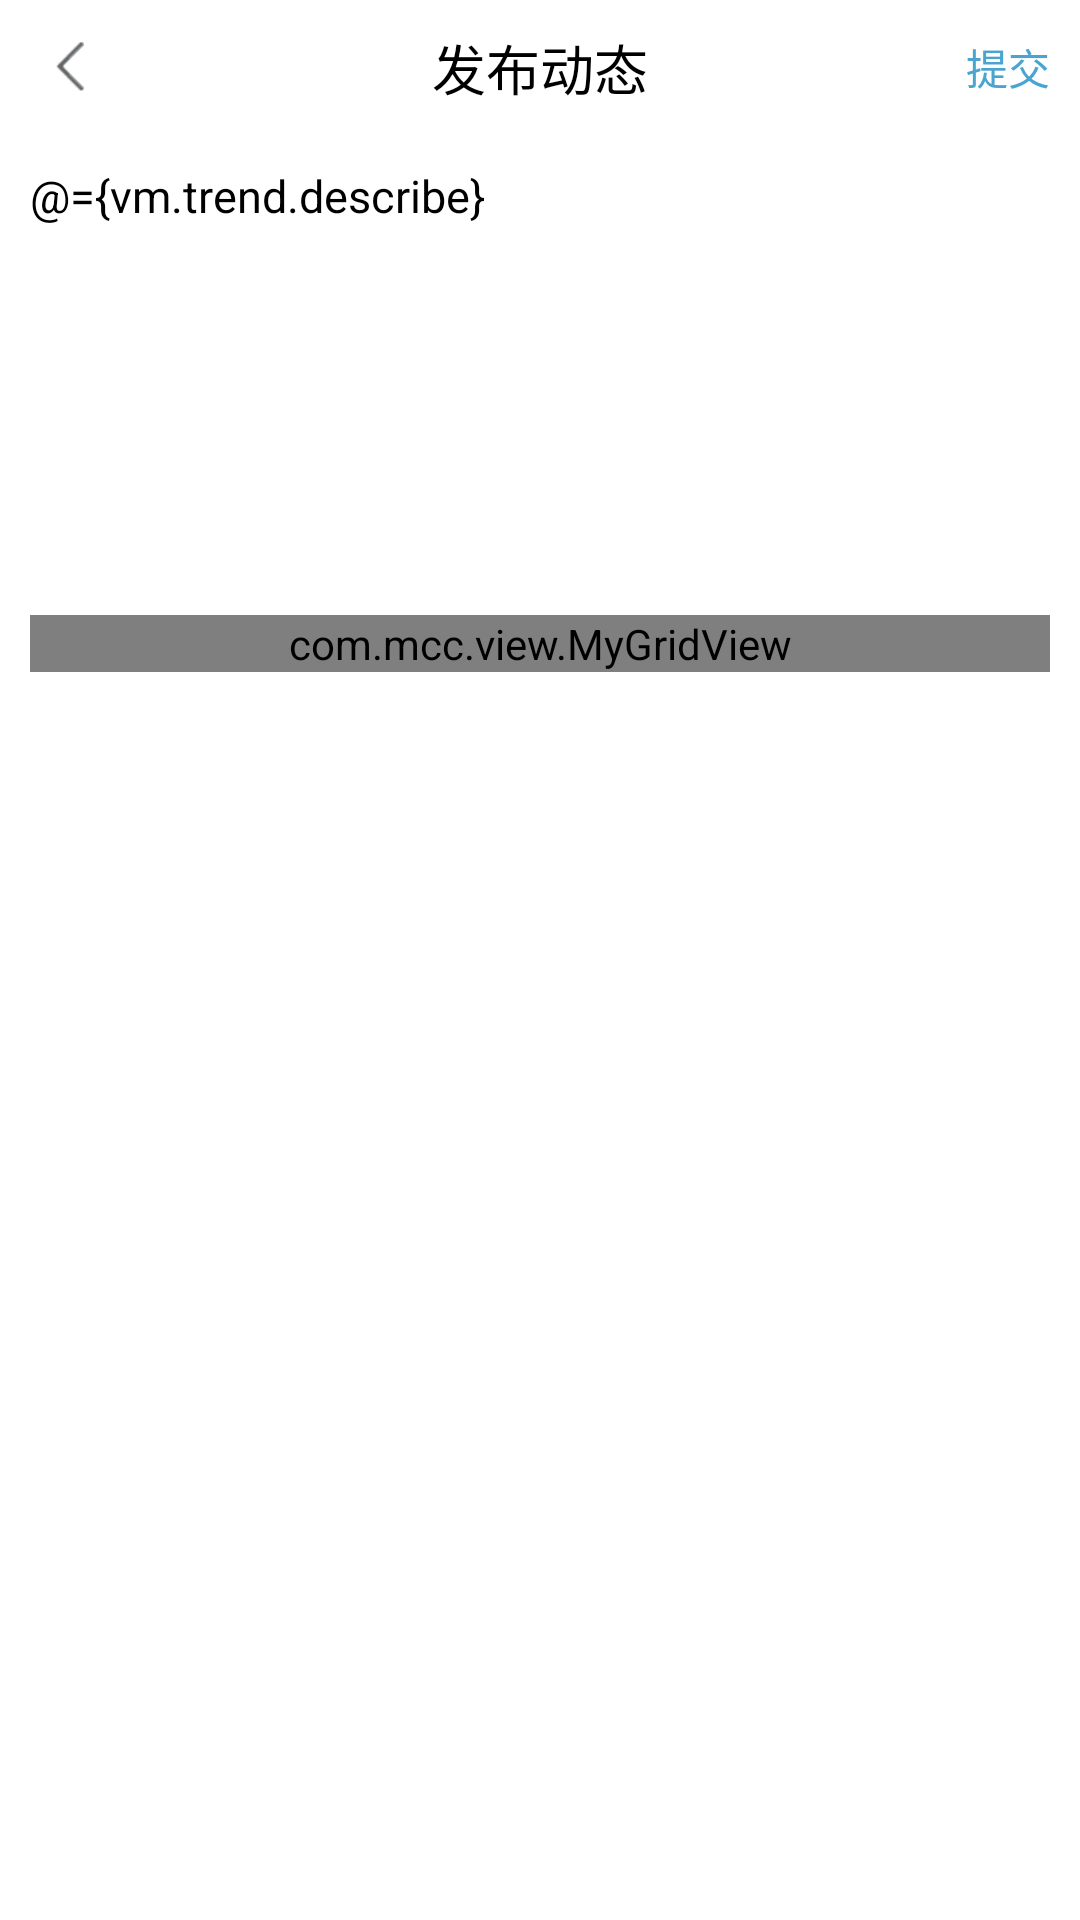

Screen size 1080w x 1920h. Icon name, then its box in pixels as (x1, y1, x2, y2):
left arrows: (57, 42, 84, 91)
